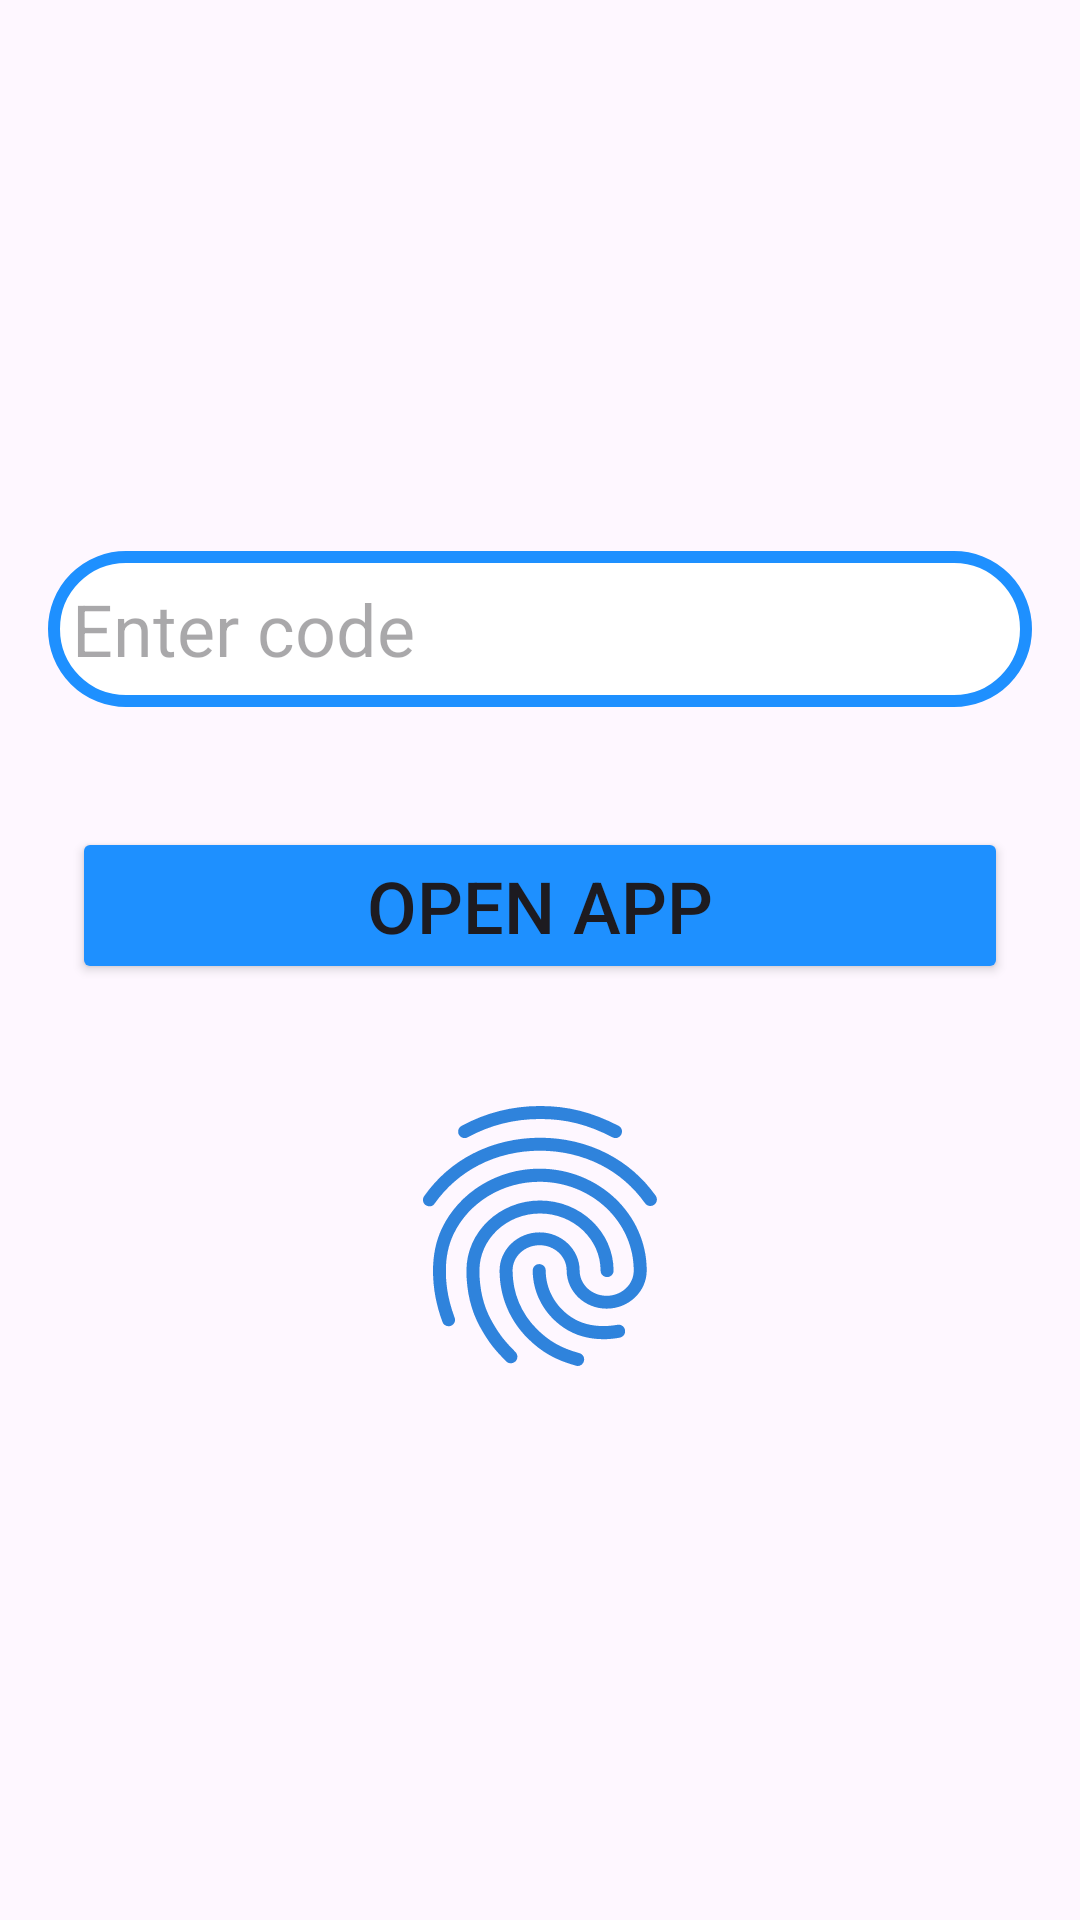

Icon bounding boxes for this 1080px×1920px phone screenshot, format (x1, y1, x2, y2):
fingerprint: (423, 1106, 657, 1366)
